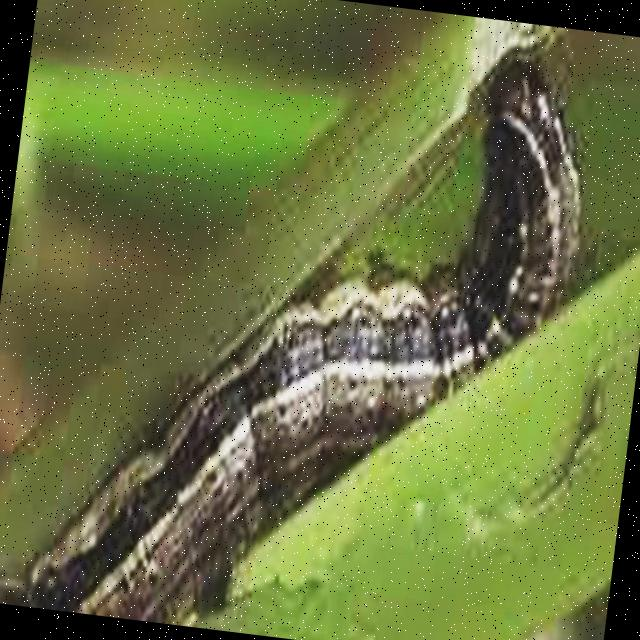worm: (1, 1, 614, 640)
